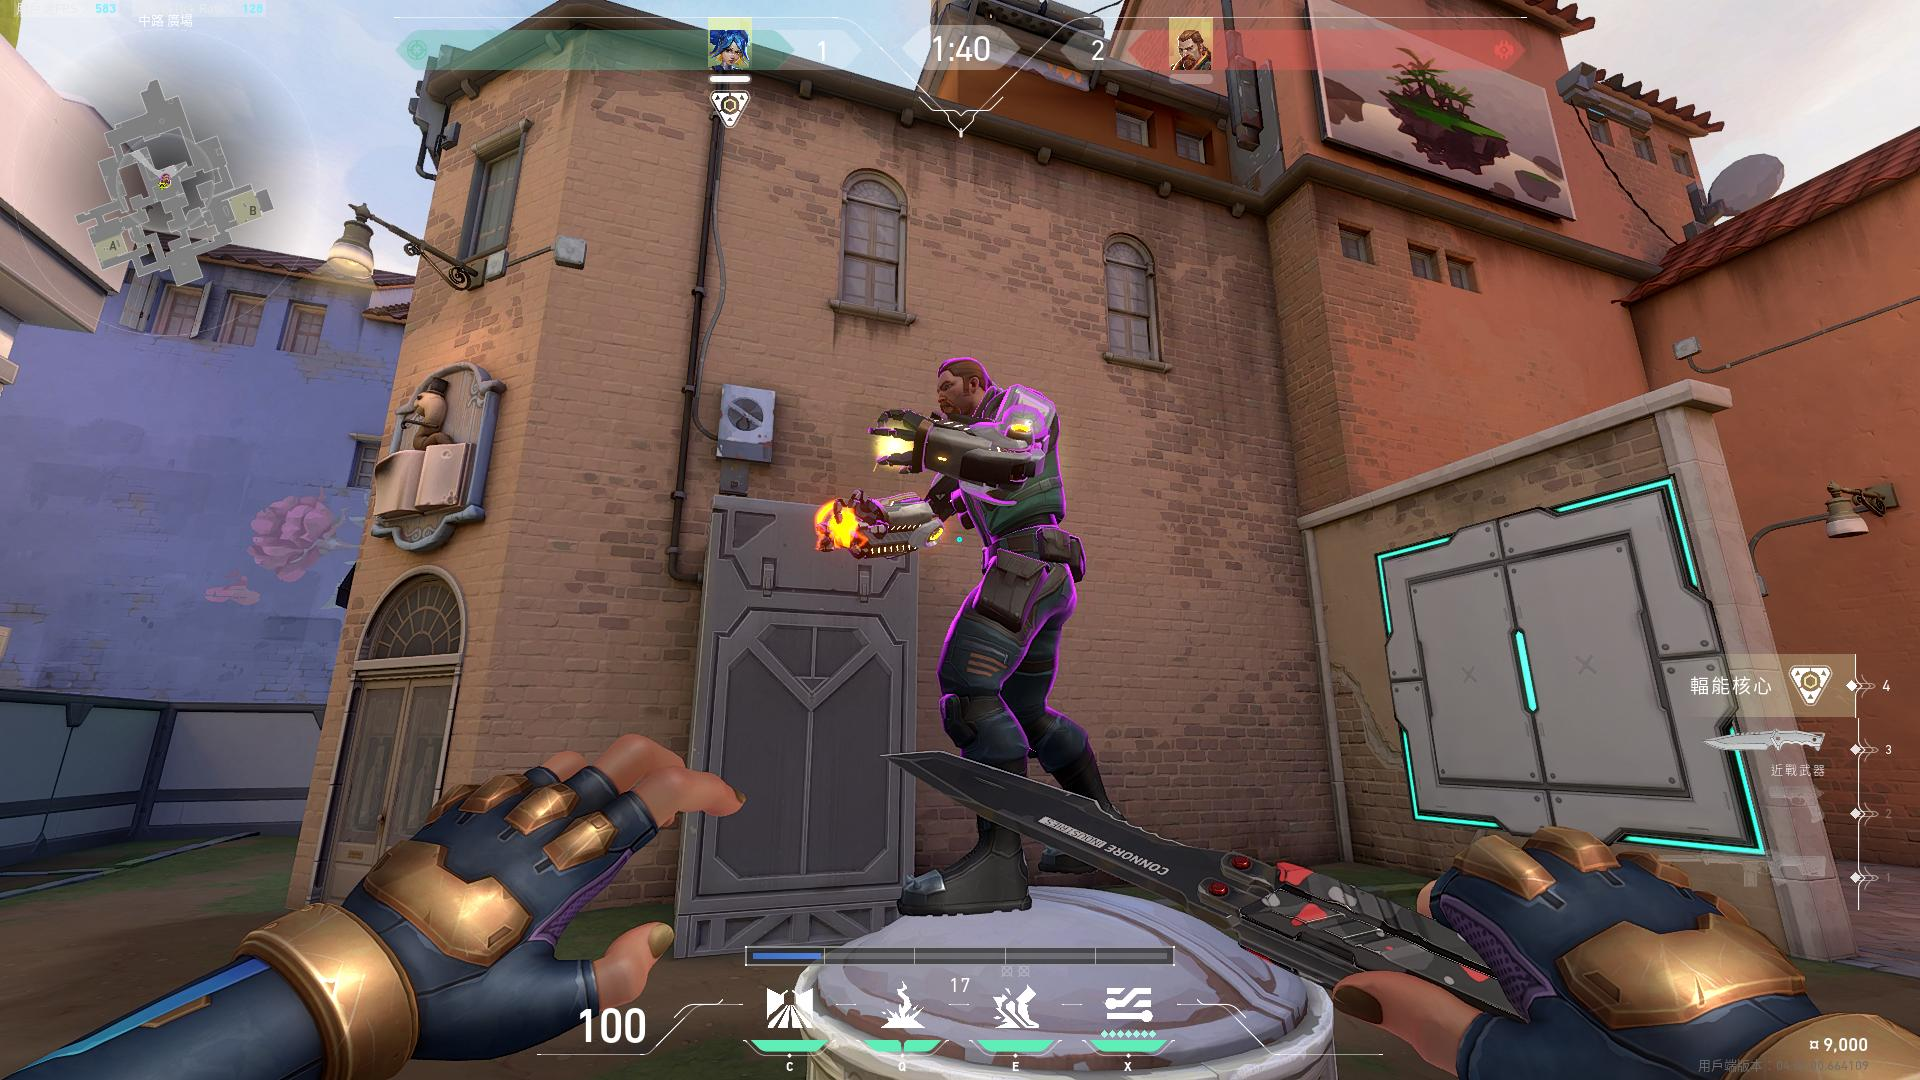enemyBody: (952, 426, 1048, 550)
enemyHead: (938, 365, 986, 402)
